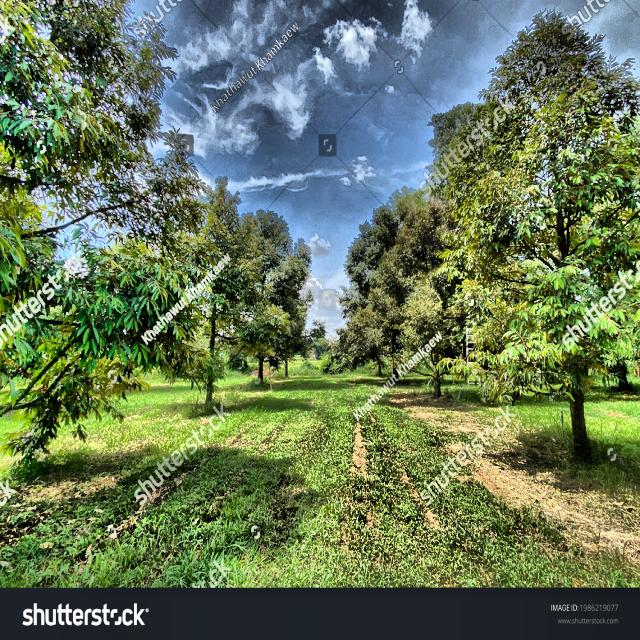arvore: (550, 166, 600, 465), (197, 266, 218, 414), (421, 327, 449, 407), (251, 322, 270, 389), (279, 323, 294, 384)
